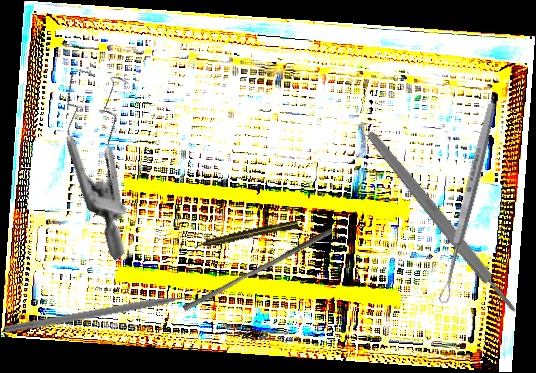Chopper: (3, 290, 205, 345)
Handpiece: (193, 219, 299, 251)
Pusher: (182, 221, 334, 318)
Scalpel Handle: (363, 127, 520, 317)
Speculum: (5, 48, 211, 262)
Surgical Spoon: (436, 100, 499, 306)
